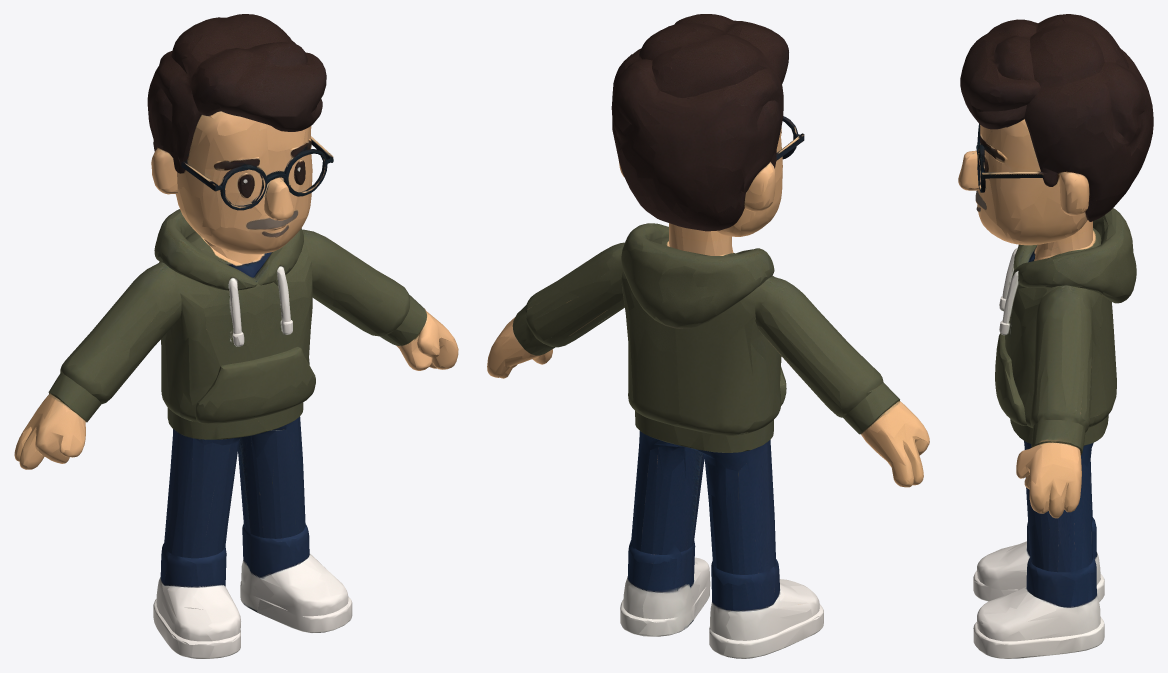
3 renders of one model, left to right at view 1: azimuth 30°, elevation 25°; view 2: azimuth 150°, elevation 25°; view 3: azimuth 270°, elevation 25°, orthographic. The views are drawn at different scales.
Size of the model in its own units: 1.44 by 1.9 by 0.5693.
Materials: 1 (1 with a texture image).
